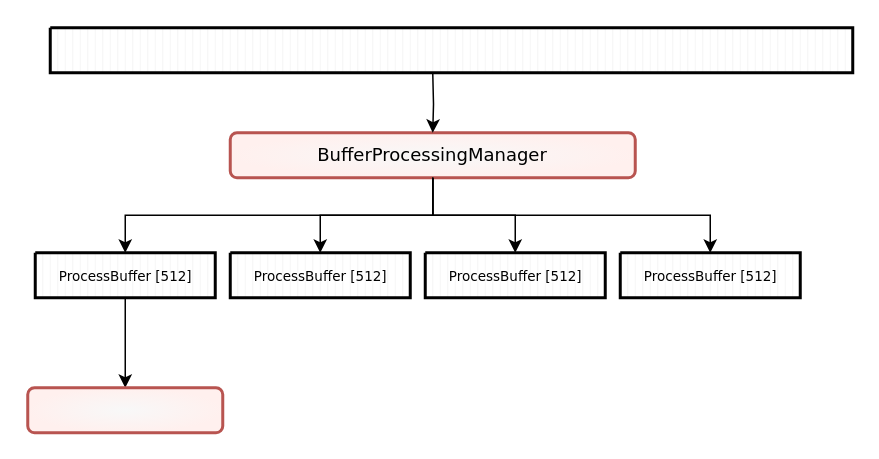
Some shapes in this 879 by 459 pixel diagram are drawn without their labels. Here are the shapes that lost their labels. From the top down, the centre of each, then its label:
At (451,50): "FileBuffer[480,000,000]".
At (125,410): "GainProcessor".
